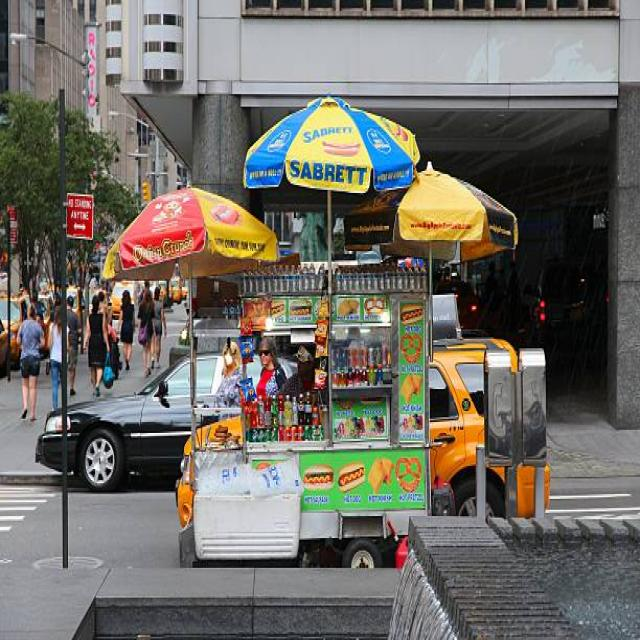Emperan: (95, 85, 581, 605)
